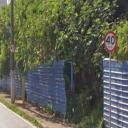speed_limit_40: (104, 31, 117, 52), (10, 44, 16, 52)
